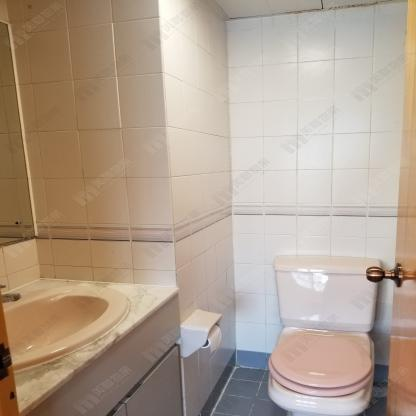Toilet: (267, 255, 383, 414)
Toilet Sink: (3, 278, 177, 416)
